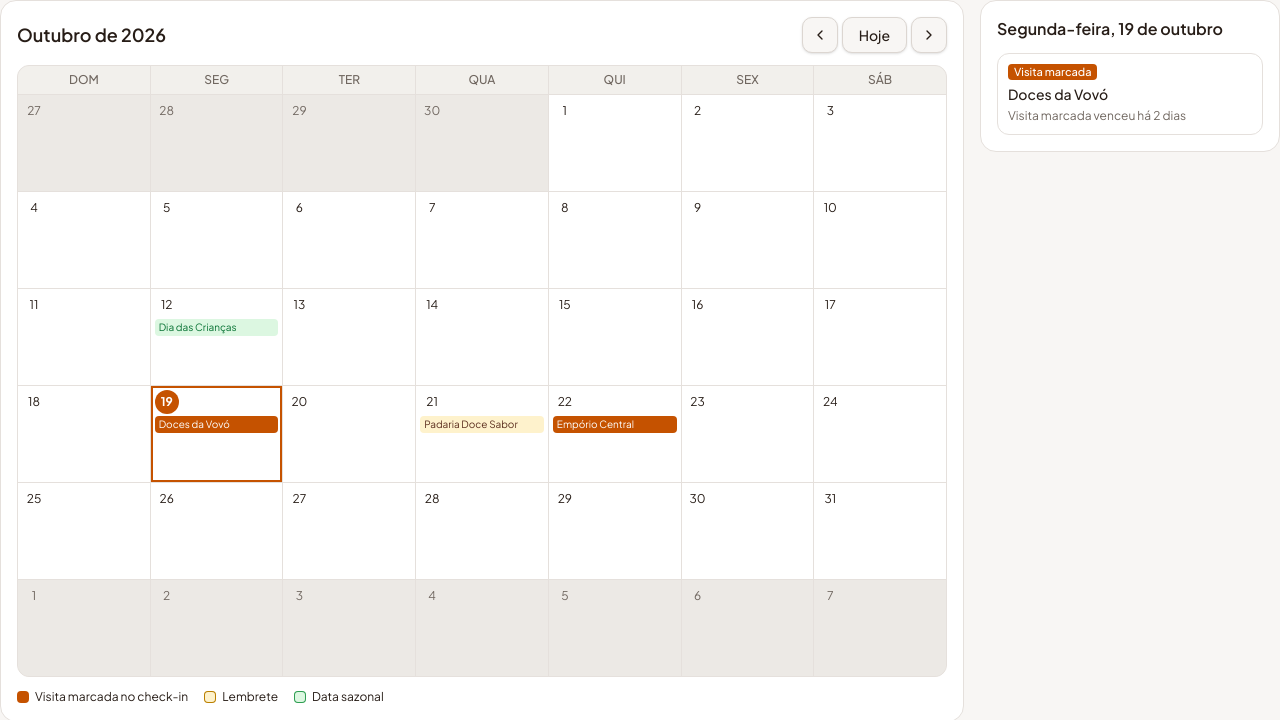
Scenario: Calendario › dia sem itens diz que não há nada
The image size is (1280, 720).
What coordinates should you click on to do the following:
click the button named "terça-feira, 20 de outubro, nenhum item"
I would click on:
 (349, 434)
Its box is [283, 386, 415, 482].
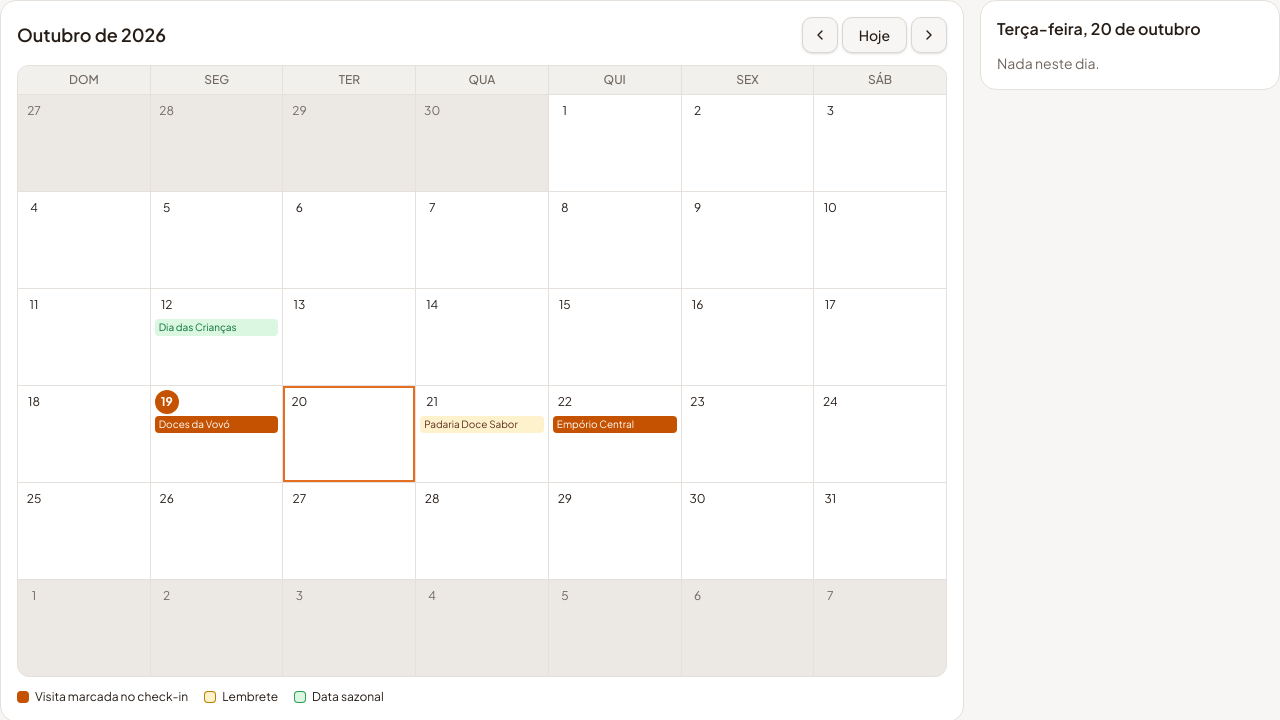
Check: the text "Nada neste dia." is shown, box [997, 54, 1100, 72]
